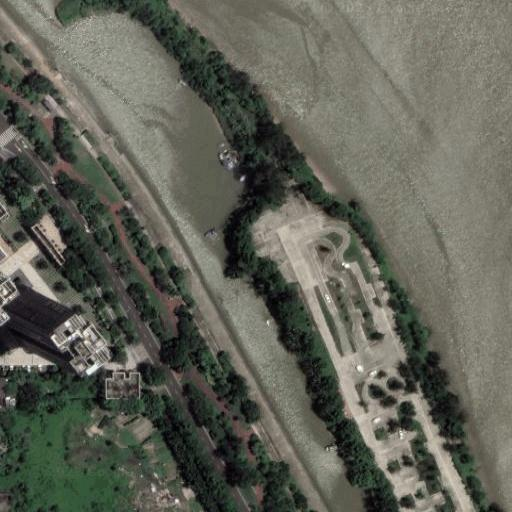building: (24, 215, 72, 269), (104, 372, 141, 398)
